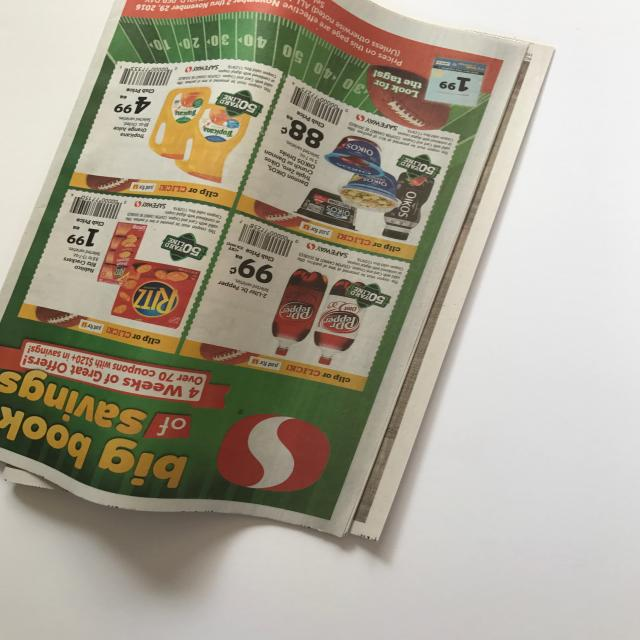paper: (0, 0, 577, 565)
